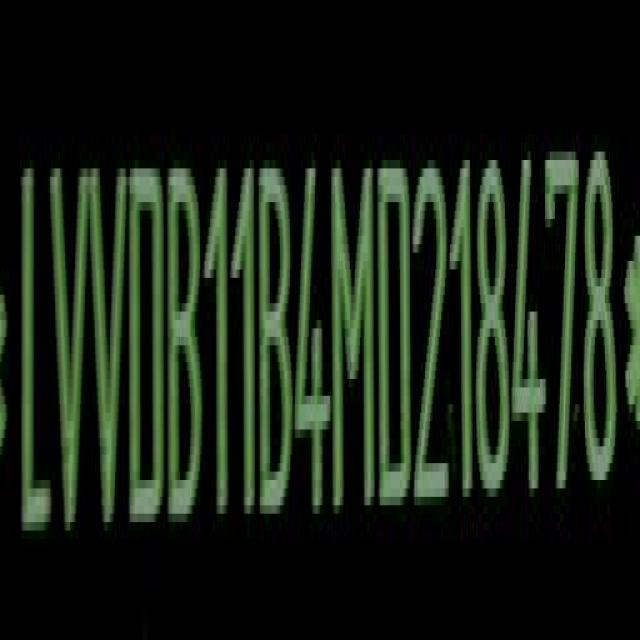1: (209, 166, 231, 528), (232, 160, 253, 525), (455, 151, 476, 511)
2: (416, 157, 450, 518)
4: (297, 157, 333, 520), (513, 149, 546, 504)
7: (548, 147, 581, 498)
8: (477, 153, 509, 507), (586, 148, 618, 488)
B: (170, 164, 206, 530), (258, 161, 294, 519)
D: (127, 160, 164, 537), (381, 156, 417, 520)
L: (19, 156, 51, 550)
M: (334, 160, 376, 521)
V: (89, 155, 130, 538), (48, 161, 89, 544)
